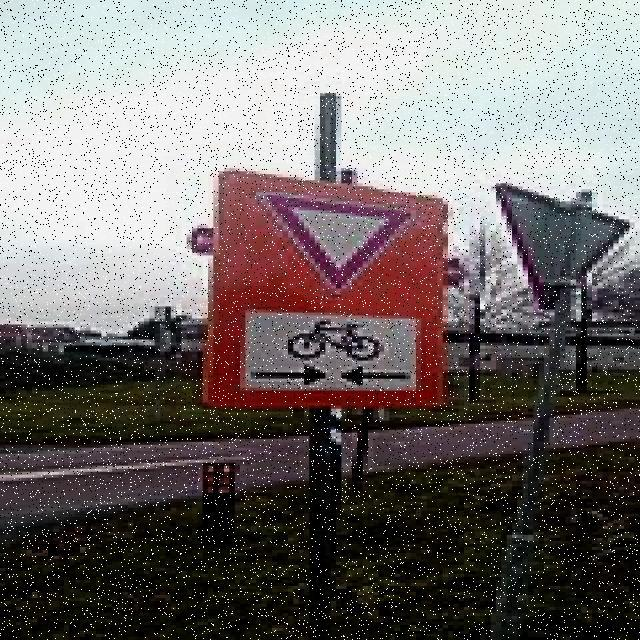Traffic sign: (182, 130, 640, 438)
